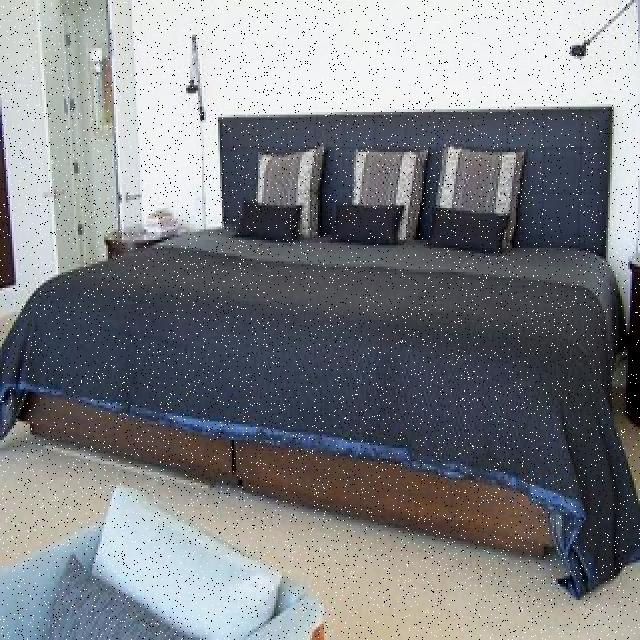bed: (21, 108, 618, 510)
